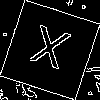X: (25, 24, 72, 79)
